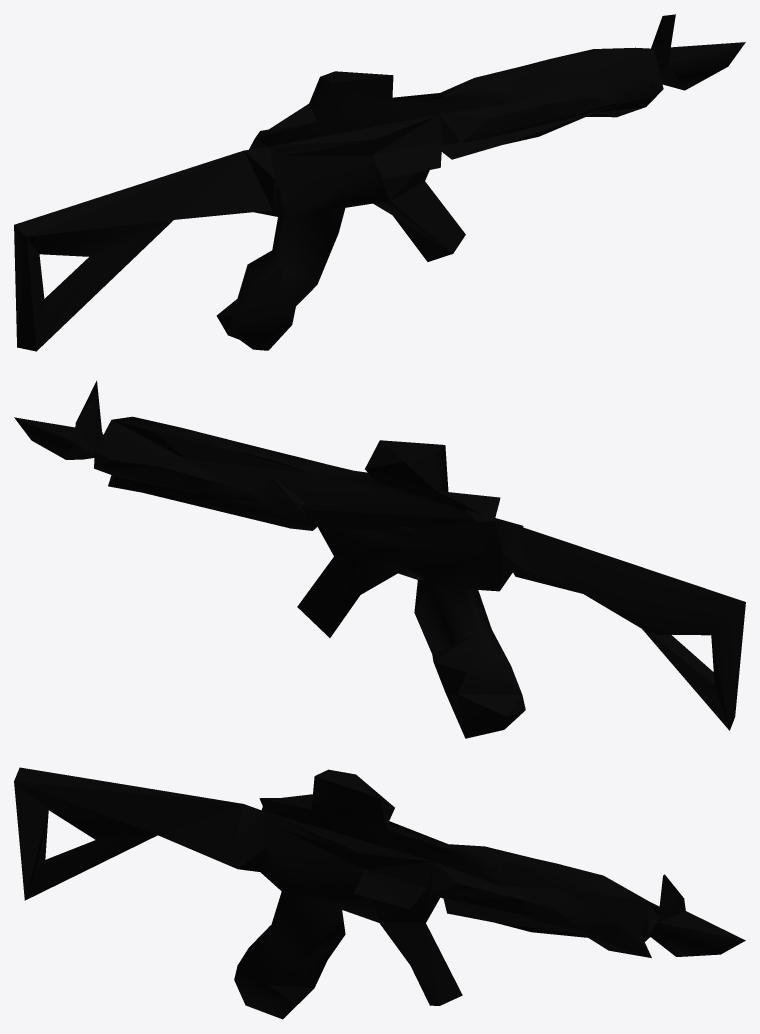
Rendered from kdf_carbine.glb.
3 renders of one model, top to bottom at view 1: azimuth 30°, elevation 25°; view 2: azimuth 150°, elevation 25°; view 3: azimuth 330°, elevation 25°, orthographic.
Visible parts, largest first — view 1: kdf_carbine; view 2: kdf_carbine; view 3: kdf_carbine.
Boxes of the visible parts, box(x1,y1,x2,y2) form: kdf_carbine: box(14, 14, 745, 351); kdf_carbine: box(14, 380, 745, 738); kdf_carbine: box(14, 767, 745, 1019).
Size of the model in its own units: 0.85 by 0.2977 by 0.0869.
Materials: 1 (1 with a texture image).
